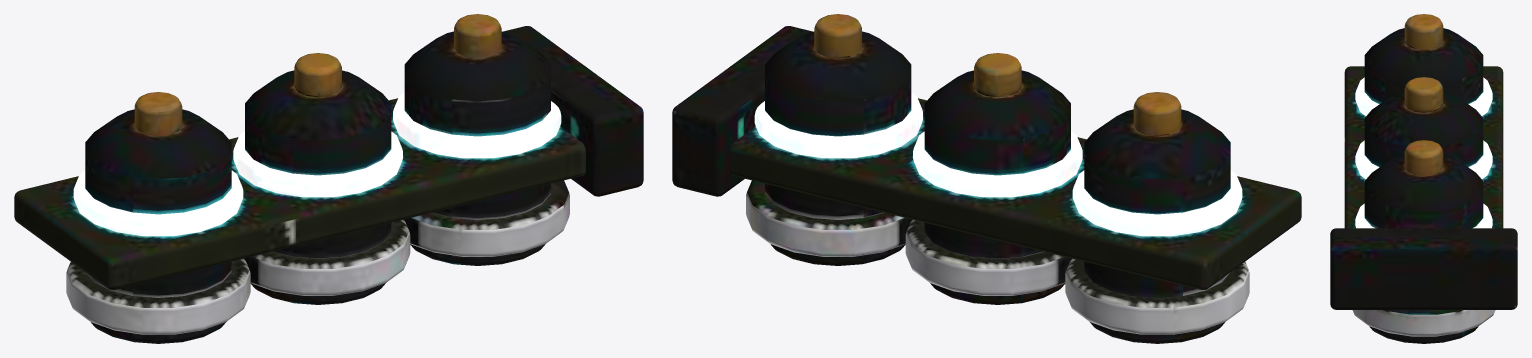
The model's file is laser_cell_pack.glb.
3 views of the same model, side by side, from view 1: azimuth 30°, elevation 25°; view 2: azimuth 150°, elevation 25°; view 3: azimuth 270°, elevation 25° (orthographic). The views are drawn at different scales.
Parts seen in each view (by area): view 1: laser_cell_pack; view 2: laser_cell_pack; view 3: laser_cell_pack.
Part boxes in pixels (bbox=[...]): laser_cell_pack: bbox=[14, 14, 643, 343]; laser_cell_pack: bbox=[672, 14, 1301, 343]; laser_cell_pack: bbox=[1330, 14, 1517, 343].
Size of the model in its own units: 0.205 by 0.08 by 0.078.
Materials: 2 (2 with a texture image).
